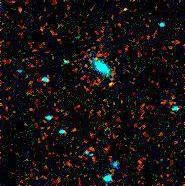star: (97, 67, 127, 97)
